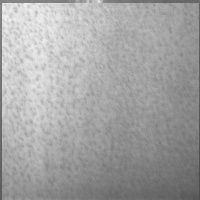pitted_surface: (2, 3, 199, 200)
scratches: (70, 1, 102, 156)
